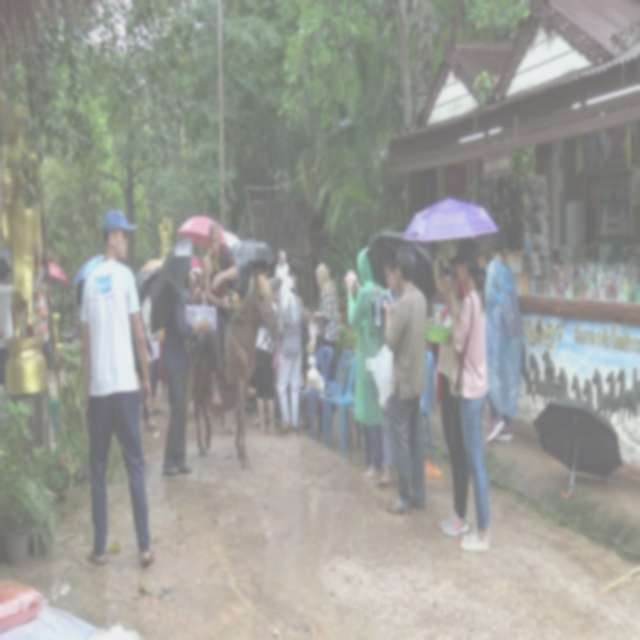pessoa: (78, 206, 158, 570), (445, 235, 493, 554), (384, 242, 429, 518), (199, 217, 259, 408), (160, 294, 214, 482), (436, 258, 472, 538), (345, 245, 387, 480), (106, 272, 158, 436), (482, 227, 518, 442), (372, 250, 404, 490), (271, 274, 304, 434), (310, 261, 340, 416), (253, 274, 281, 434), (278, 274, 305, 434), (140, 274, 160, 414), (0, 254, 18, 402), (232, 246, 271, 306), (32, 273, 52, 375), (68, 276, 86, 344), (246, 378, 270, 426), (157, 324, 170, 394), (184, 268, 206, 307), (274, 249, 290, 279)
